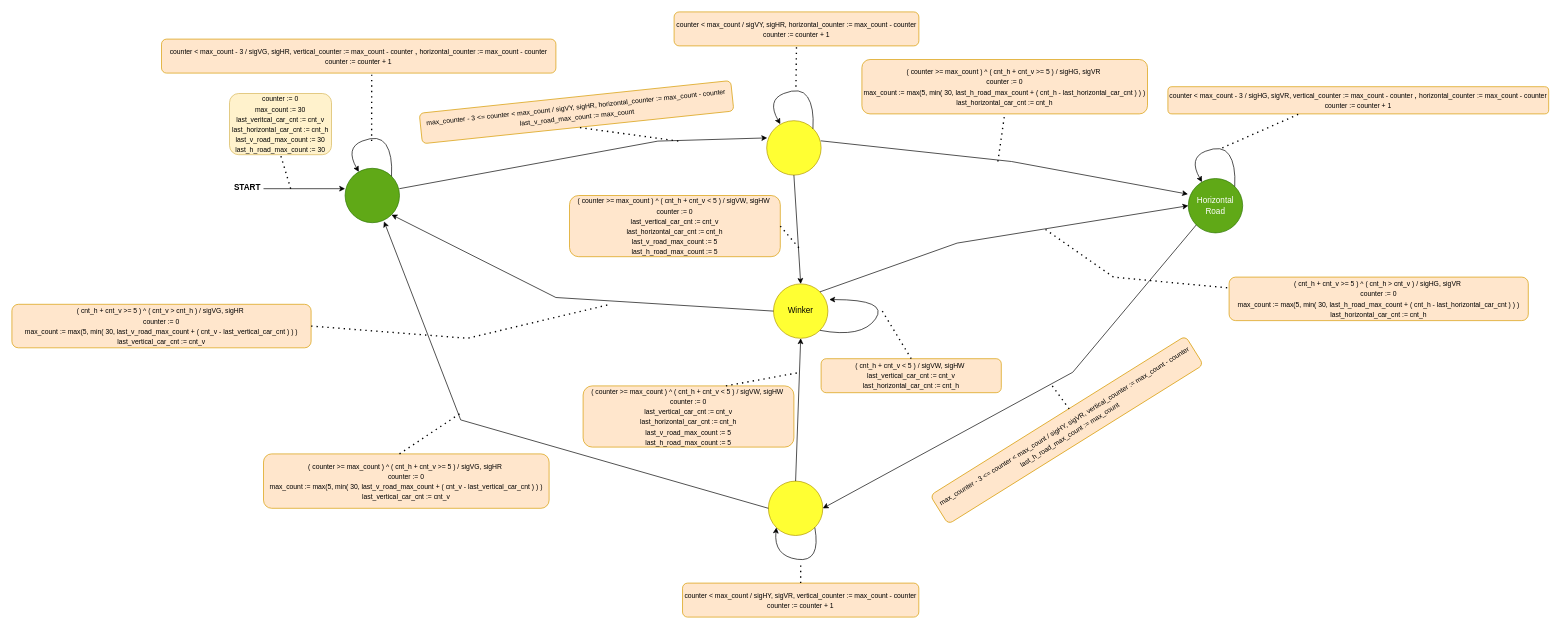
This 1561x629 diagram has some shape labels left out. Each missing label, with the centre of its shape:
CautionH: the point at 795,508
CautionV: the point at 793,147
Vertical Road: the point at 372,195
